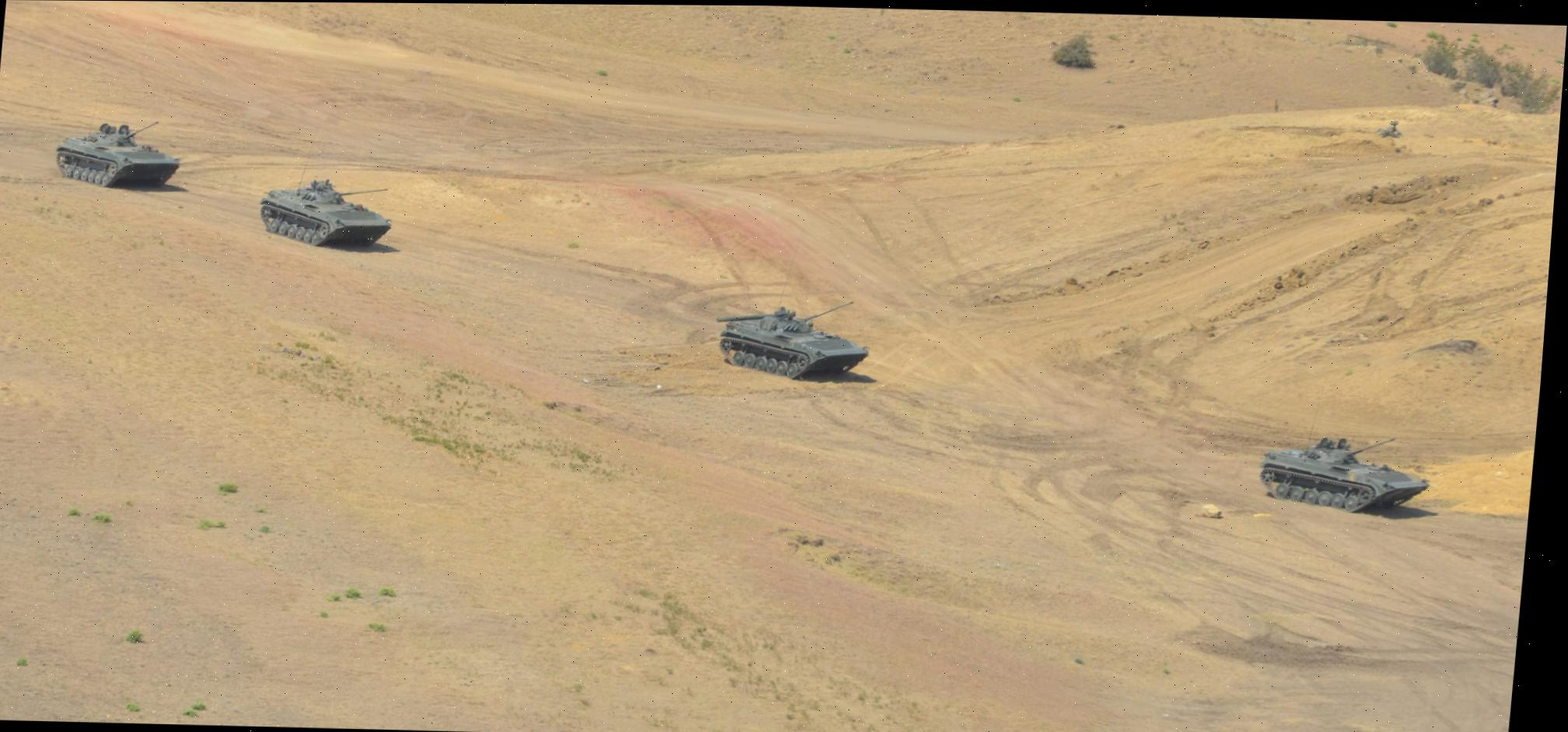armored_car: (1257, 435, 1436, 514), (713, 298, 876, 382), (256, 176, 399, 248), (53, 120, 186, 189)
